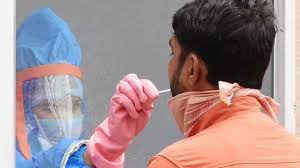mask: (16, 15, 88, 152), (162, 0, 240, 116)
